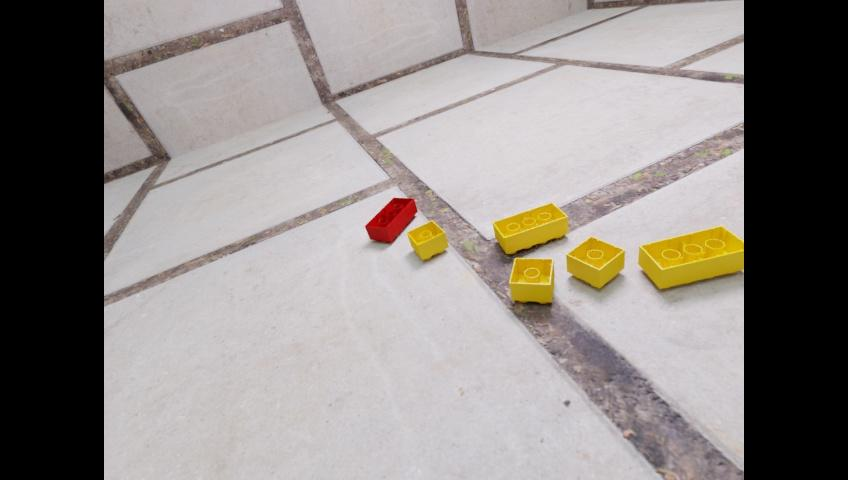2x2_yellow: (566, 235, 624, 286), (509, 258, 553, 303), (406, 220, 447, 259)
4x2_red: (364, 197, 417, 242)
4x2_yellow: (638, 225, 743, 288), (492, 201, 567, 253)
